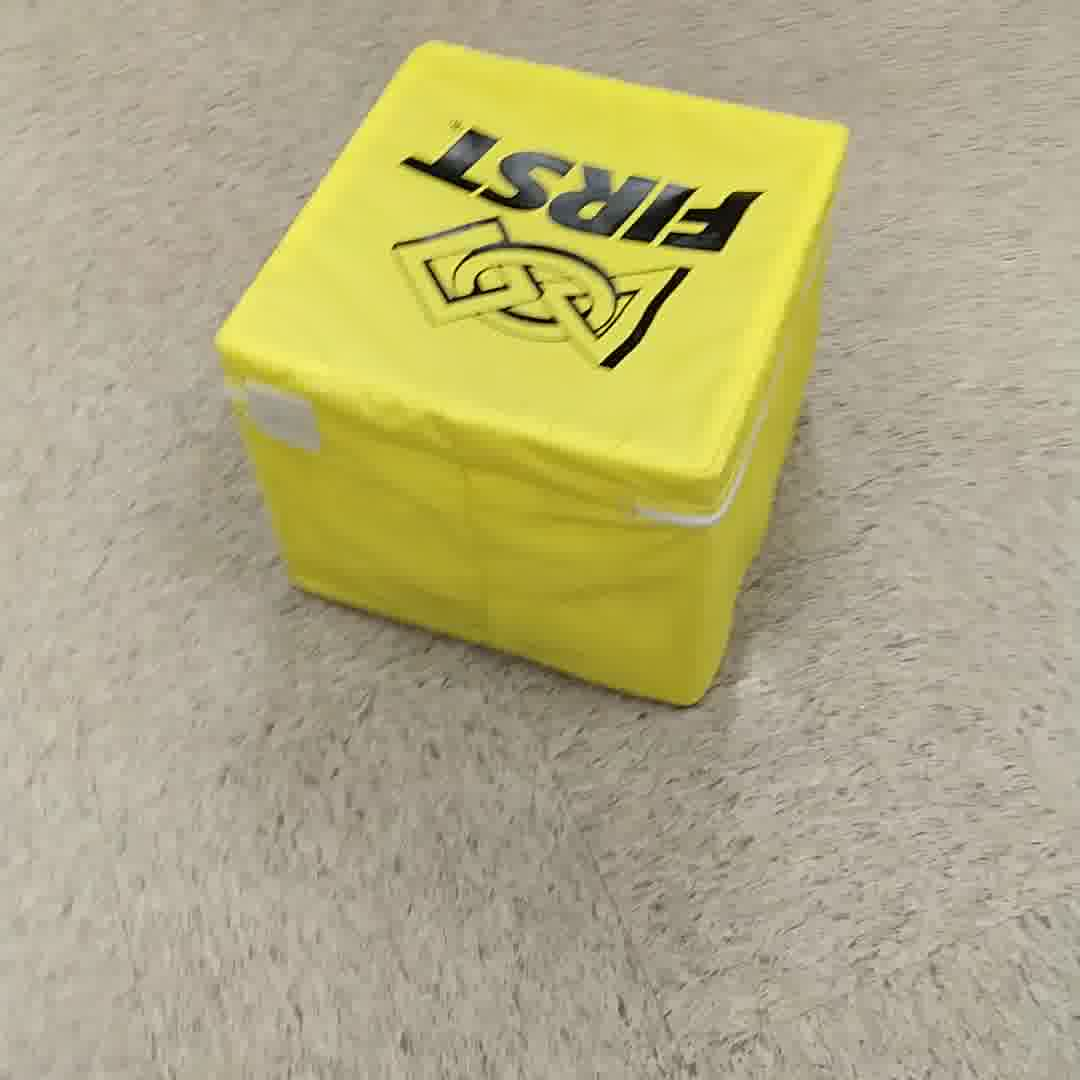box: (232, 43, 848, 711)
